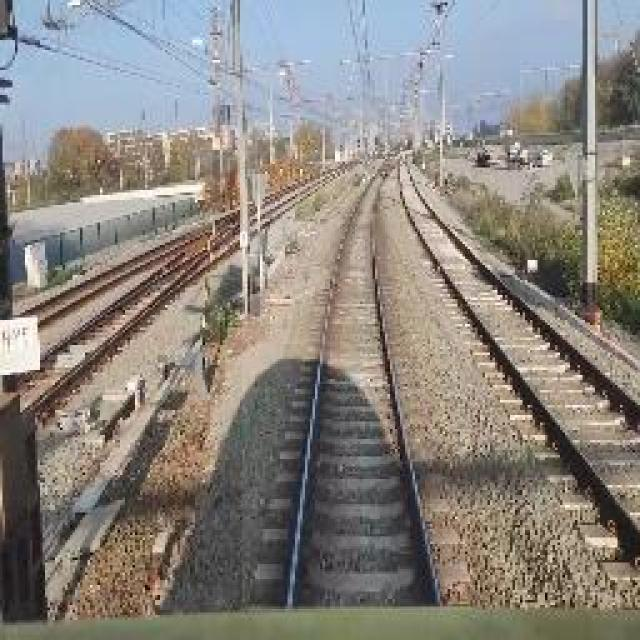rail: (244, 153, 472, 611)
